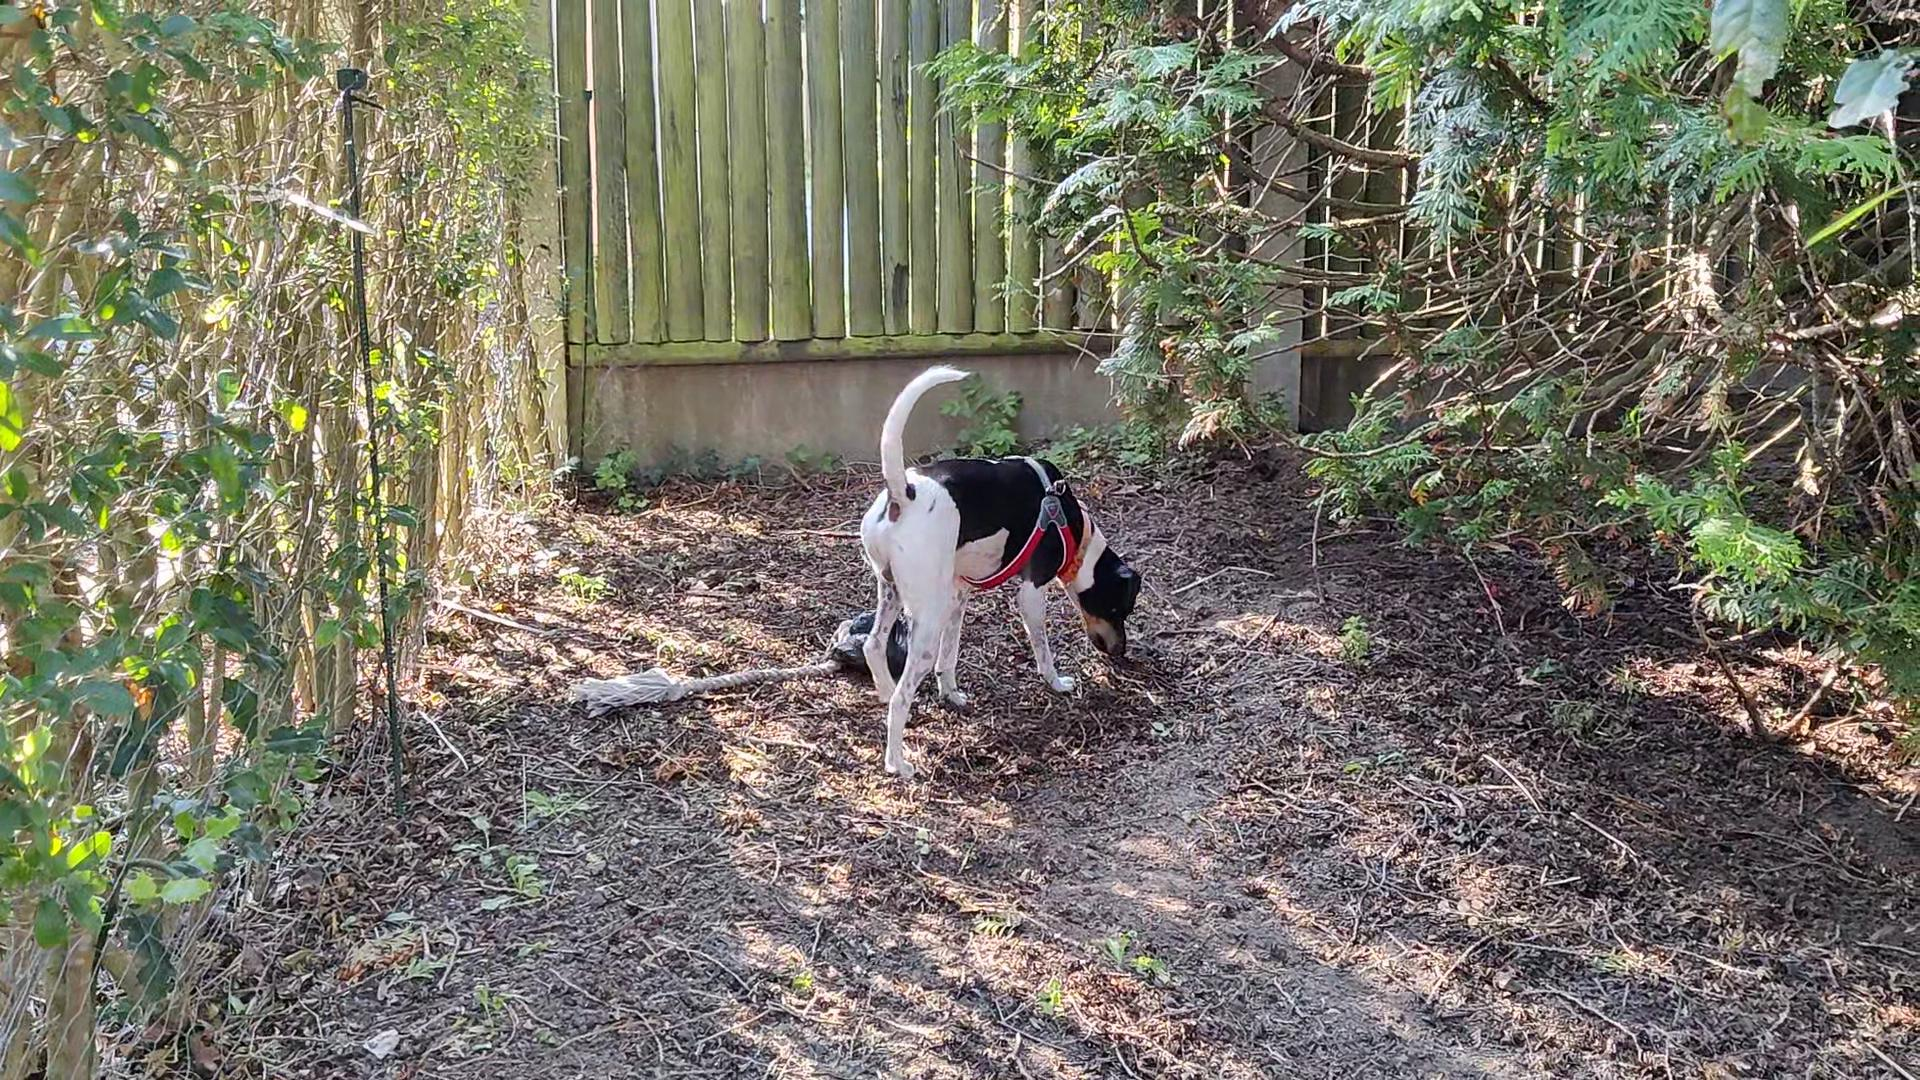Dog: (849, 353, 1154, 785)
